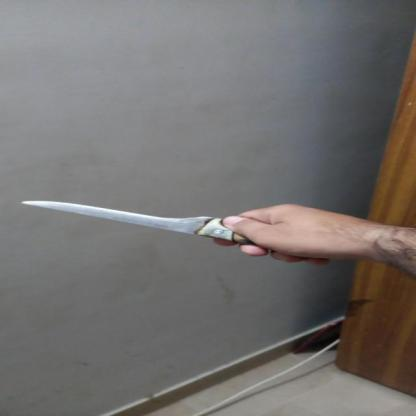Knife: (0, 199, 416, 247)
